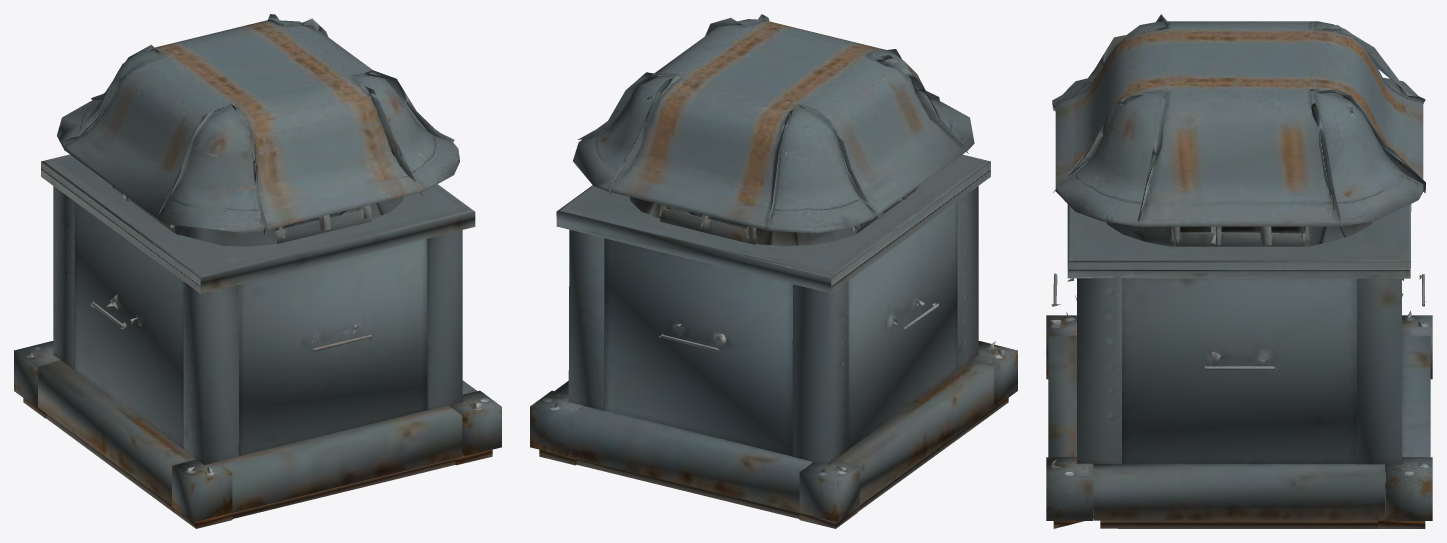
File: roof_ventilator.glb
The picture shows the model from 3 angles, left to right: view 1: azimuth 30°, elevation 25°; view 2: azimuth 150°, elevation 25°; view 3: azimuth 270°, elevation 25°; orthographic projection. The views are drawn at different scales.
Size of the model in its own units: 1.41 by 1.6 by 1.42.
1 material, 1 textured.
